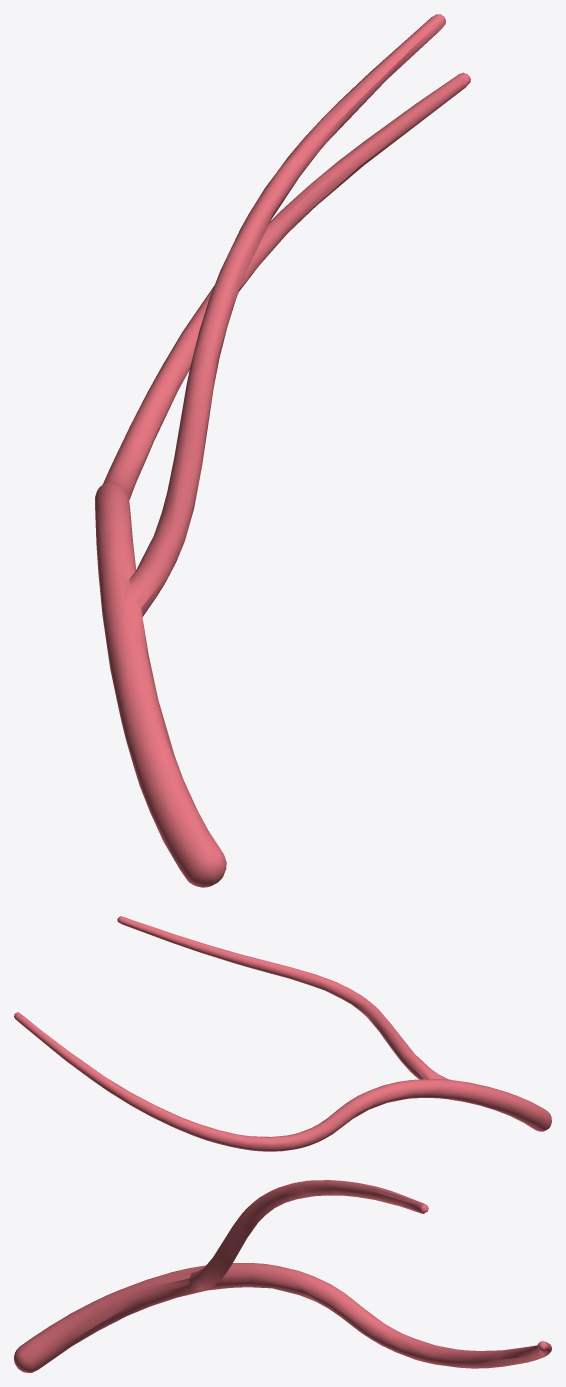
File: fma50476_fj1673.glb
3 renders of one model, top to bottom at view 1: azimuth 30°, elevation 25°; view 2: azimuth 150°, elevation 25°; view 3: azimuth 270°, elevation 25°, orthographic. The views are drawn at different scales.
Visible parts, largest first — view 1: FMA50476_FJ1673; view 2: FMA50476_FJ1673; view 3: FMA50476_FJ1673.
Part boxes in pixels (bbox=[...]): FMA50476_FJ1673: bbox=[95, 14, 470, 887]; FMA50476_FJ1673: bbox=[14, 916, 551, 1151]; FMA50476_FJ1673: bbox=[14, 1180, 551, 1372].
Bounding box in the file's own units: 0.0238 × 0.0173 × 0.0249.
